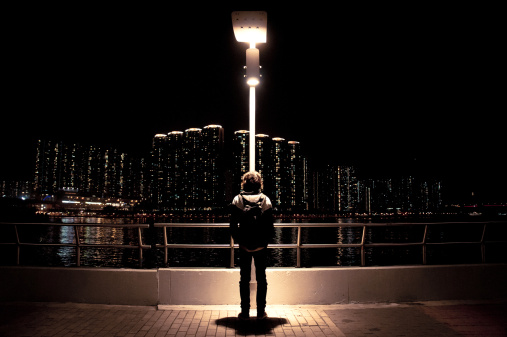em pe: (220, 158, 279, 310)
